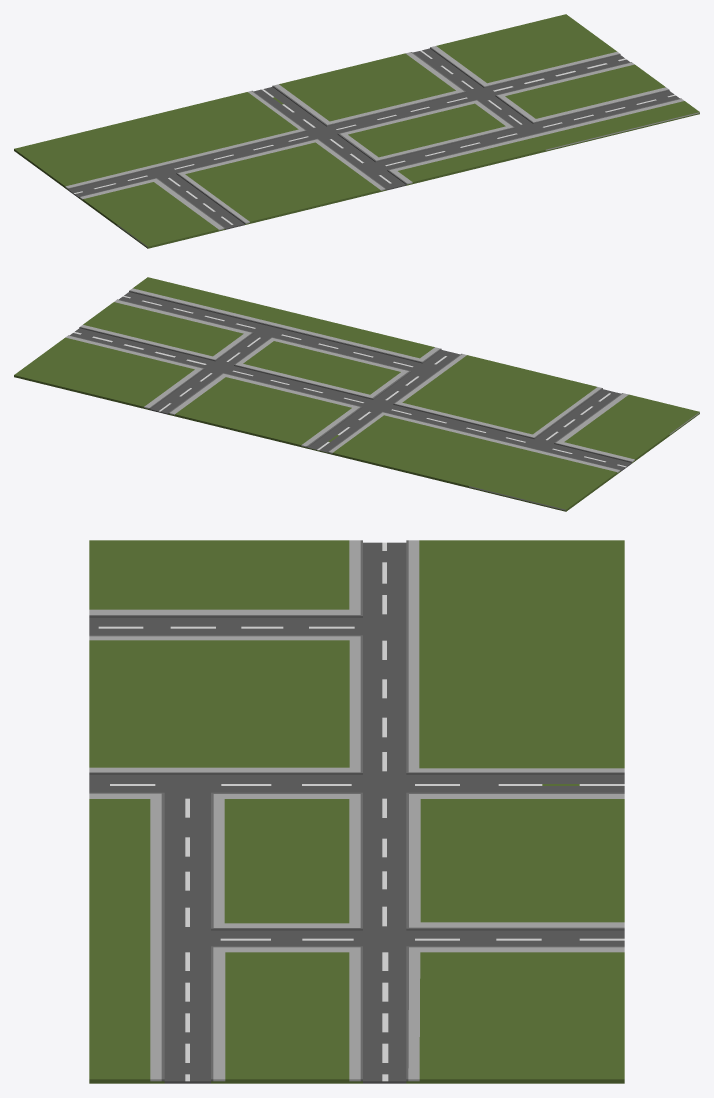
File: floor.fbx
3 views of the same model, one above another, from view 1: azimuth 30°, elevation 25°; view 2: azimuth 150°, elevation 25°; view 3: azimuth 270°, elevation 25° (orthographic). The views are drawn at different scales.
Parts seen in each view (by area): view 1: floor; view 2: floor; view 3: floor.
Boxes of the visible parts, x1,y1,x2,y2 form: floor: [14, 14, 699, 248]; floor: [14, 277, 699, 511]; floor: [89, 540, 624, 1083].
Size of the model in its own units: 2820 by 10 by 1184.
Materials: 1 (1 with a texture image).
